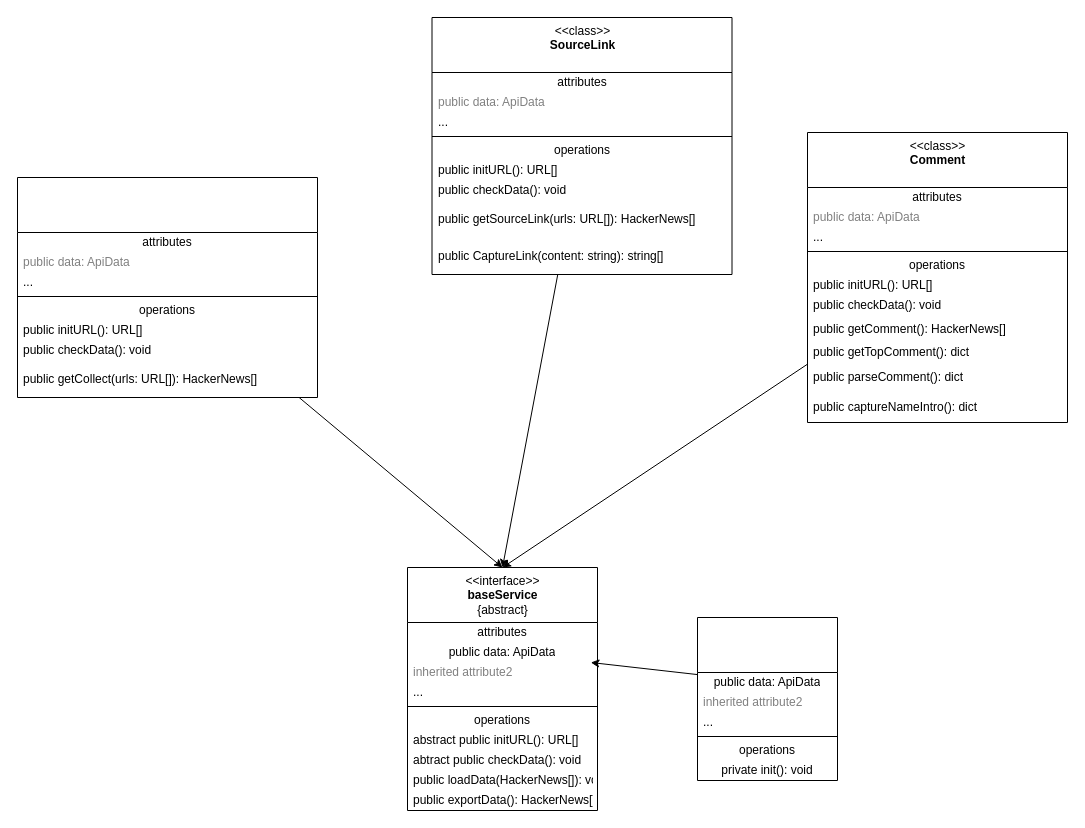
The diagram is 1085 pixels wide and 828 high, and some of its shapes have lost their labels. The box of each missing label's shape, as (x1, y1, x2, y2) in pixels:
<<class>> ApiBase {abstract}: (696, 616, 838, 780)
<<class>> Collect: (16, 176, 318, 398)
